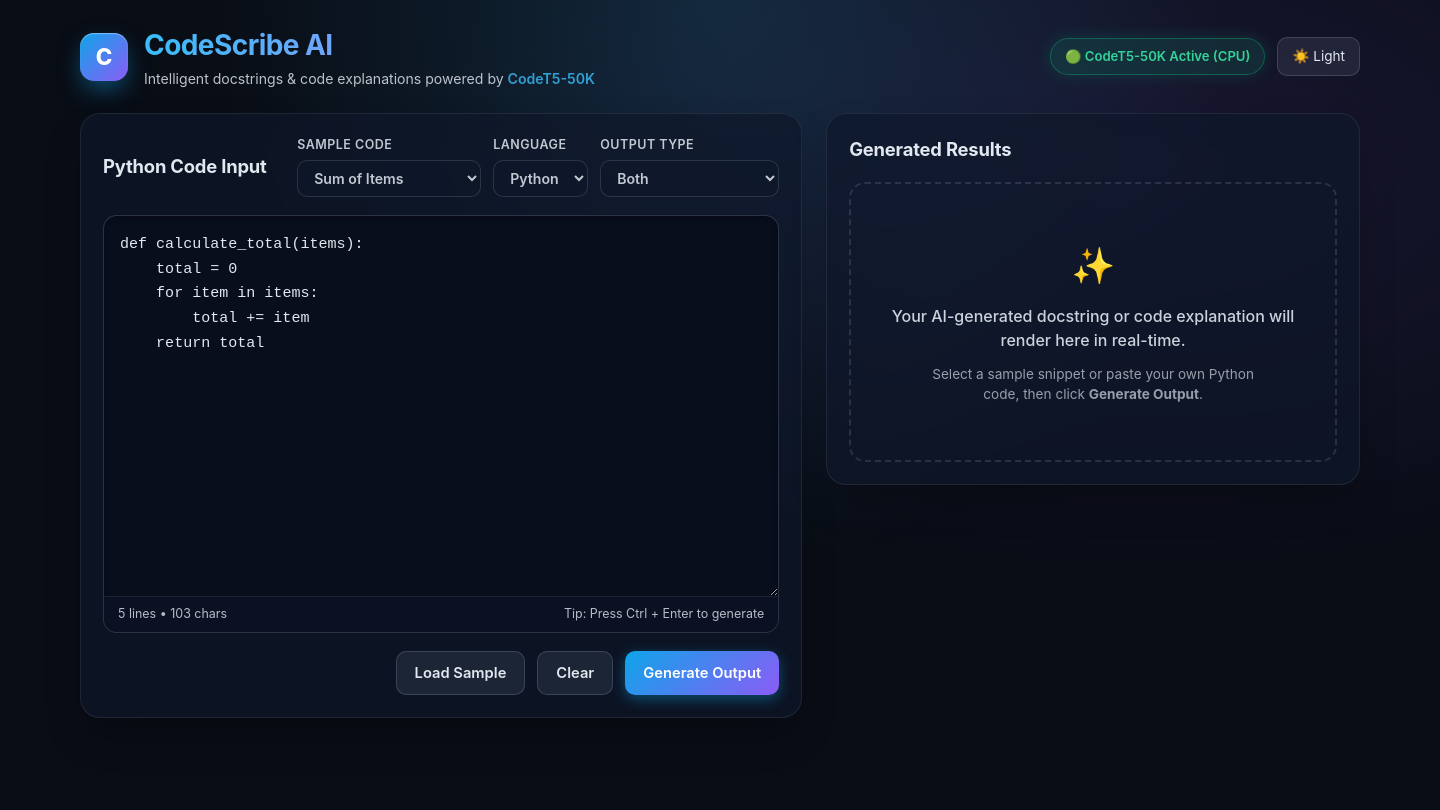
CodeScribe AI app › generates real CodeT5 output and renders docstring & explanation cards
Click the button "Generate Output".
click(702, 673)  # box [625,650,779,695]
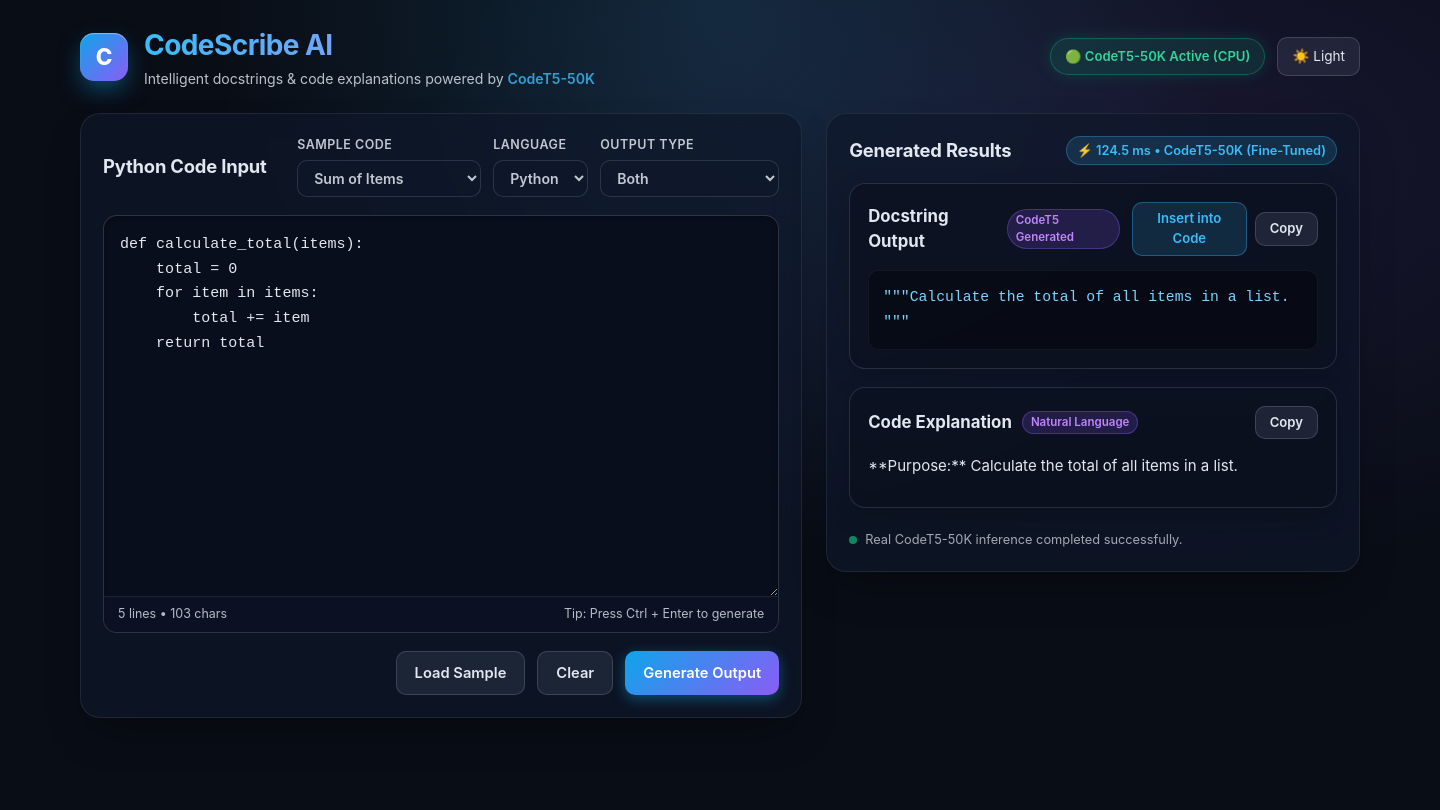
Check: the heading "Code Explanation" is shown, box [868,410,1012,435]
Check: the heading "Docstring Output" is shown, box [868,206,948,251]
